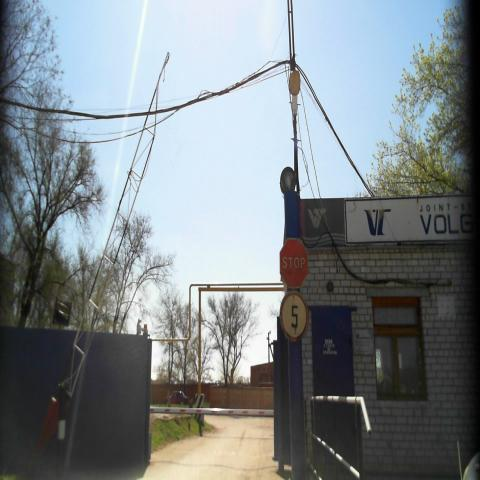2_5: (278, 236, 306, 288)
